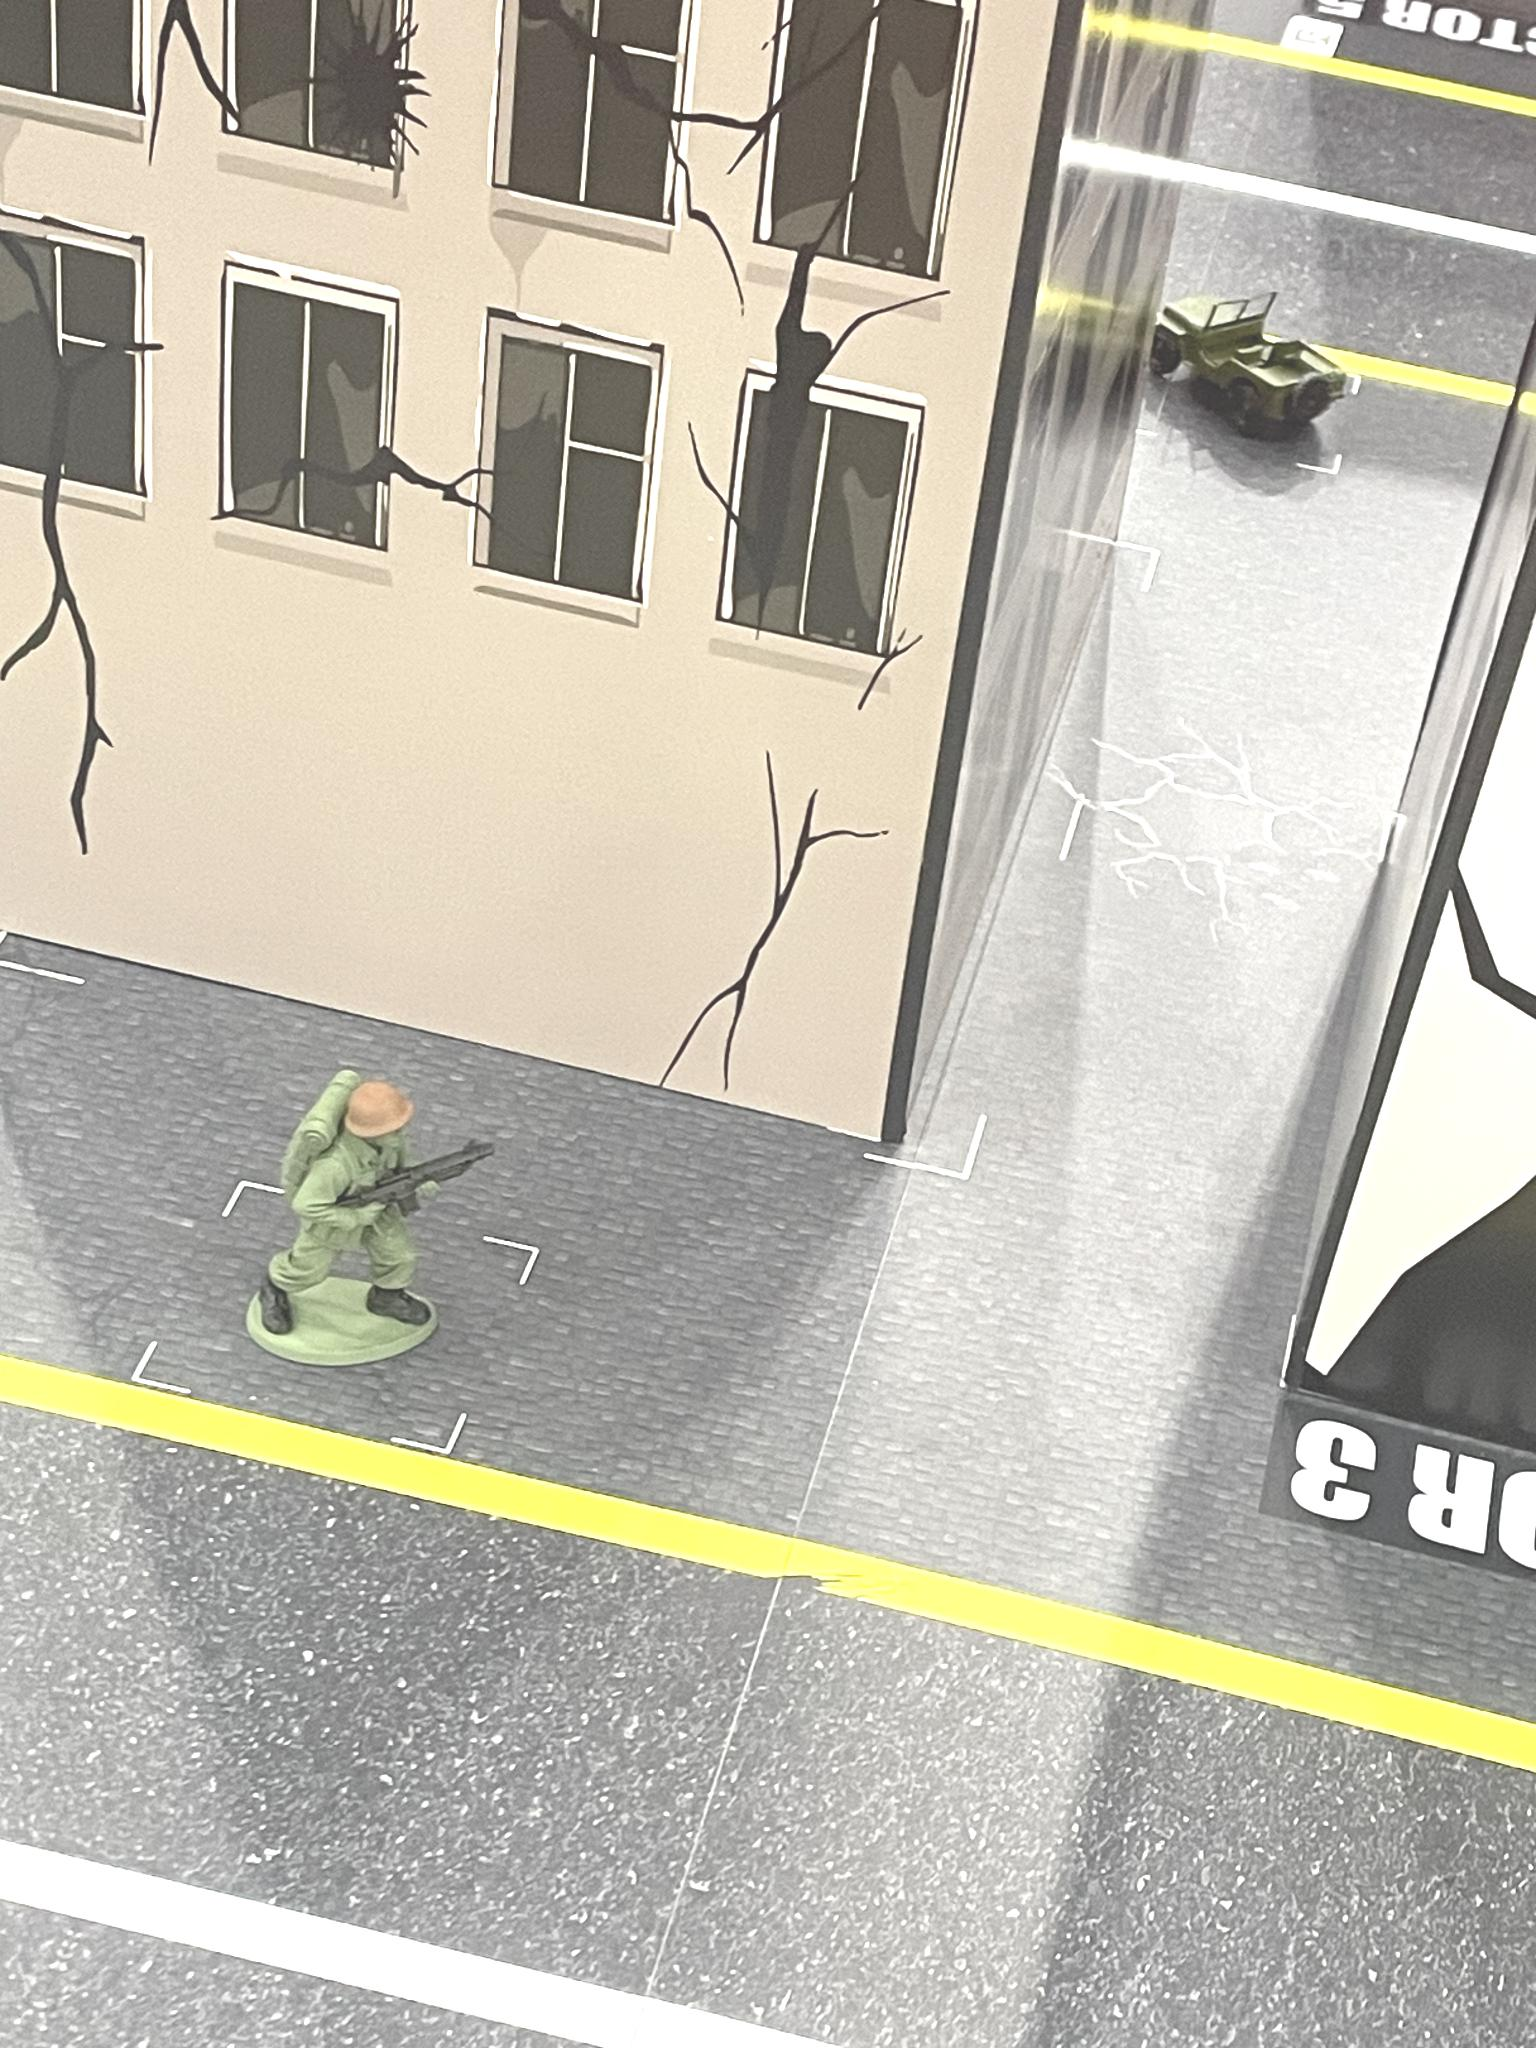Car: (1155, 284, 1354, 450)
Enemy: (239, 1047, 492, 1371)
